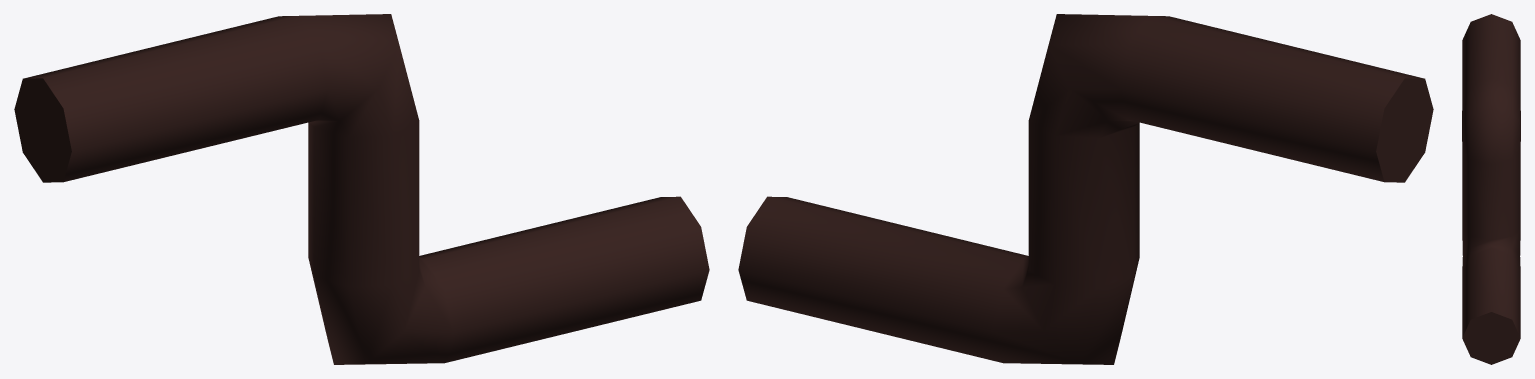
File: well_handle.fbx
The picture shows the model from 3 angles, left to right: view 1: azimuth 30°, elevation 25°; view 2: azimuth 150°, elevation 25°; view 3: azimuth 270°, elevation 25°; orthographic projection. The views are drawn at different scales.
Visible parts, largest first — view 1: Handle; view 2: Handle; view 3: Handle.
Part boxes in pixels (box(x1,y1,x2,y2)): Handle: box(14, 14, 709, 364); Handle: box(738, 14, 1433, 364); Handle: box(1462, 14, 1520, 364).
Bounding box in the file's own units: 62.46 × 35.4 × 9.8.
